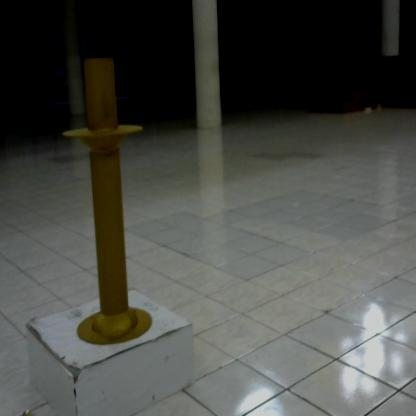pole: (58, 50, 158, 358)
